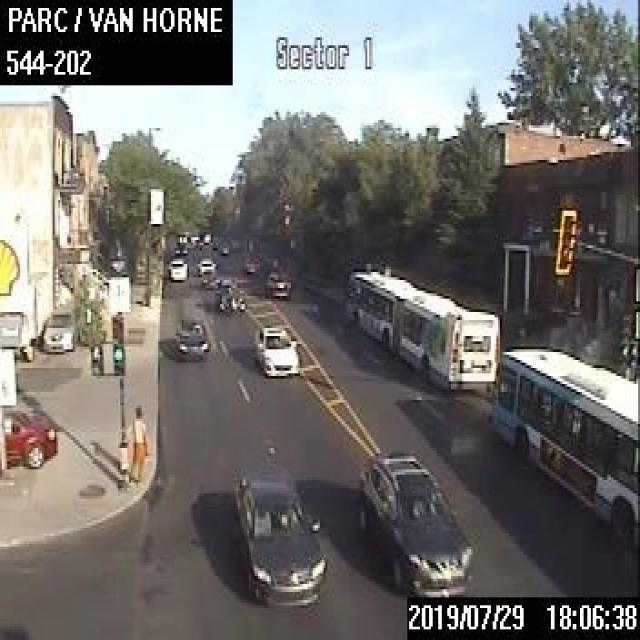bus: (486, 345, 638, 546), (345, 268, 499, 390)
pedestrian: (126, 403, 149, 488)
vehicle: (351, 446, 474, 598), (229, 461, 327, 608), (0, 269, 47, 359), (1, 408, 55, 467), (252, 323, 300, 375), (41, 303, 79, 351), (172, 317, 210, 360), (214, 278, 245, 311), (264, 266, 291, 298), (166, 255, 189, 280), (241, 252, 260, 271), (195, 256, 216, 273), (172, 241, 186, 255)
